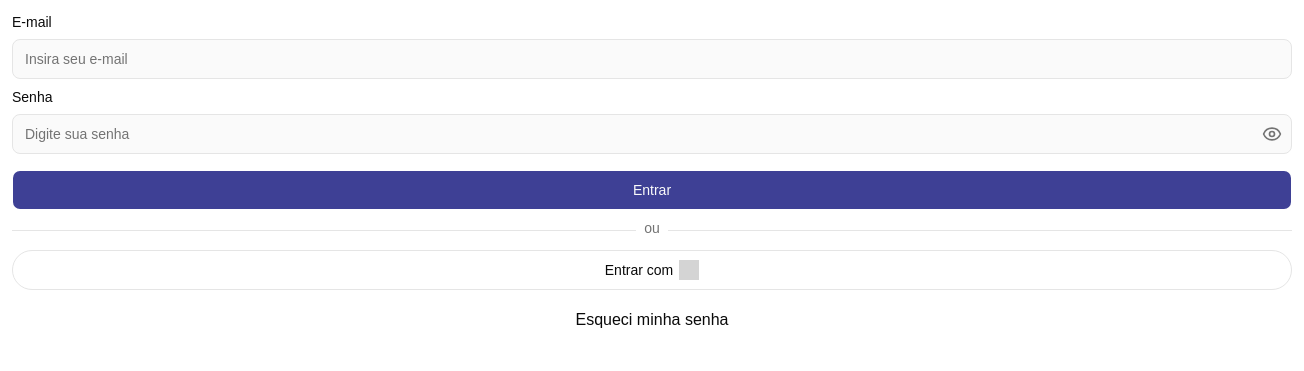
Test: SignInForm › shows a validation message for invalid email
Type "invalid-email" into the field labelled "E-mail" at {"x": 652, "y": 59}, box [12, 39, 1292, 79]
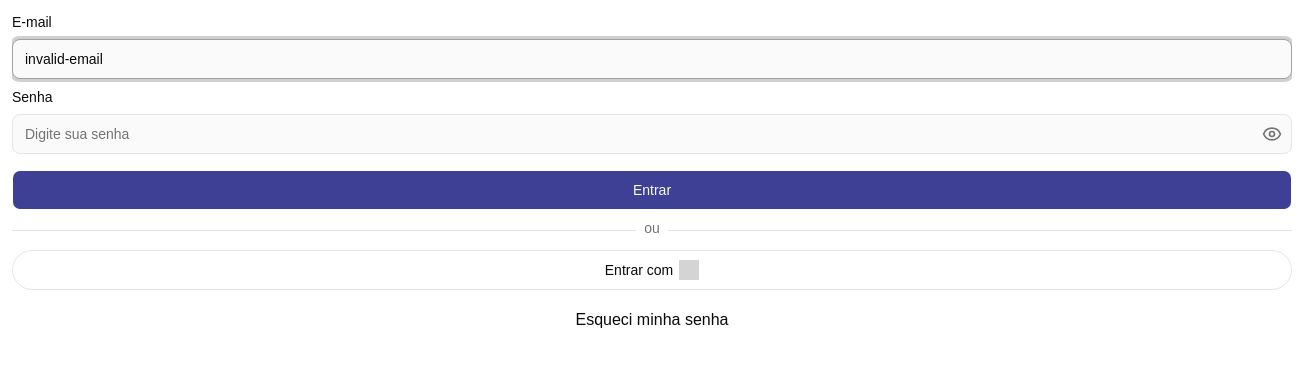
Type "secret" into the password field labelled "Senha" at {"x": 652, "y": 134}, box [12, 114, 1292, 154]
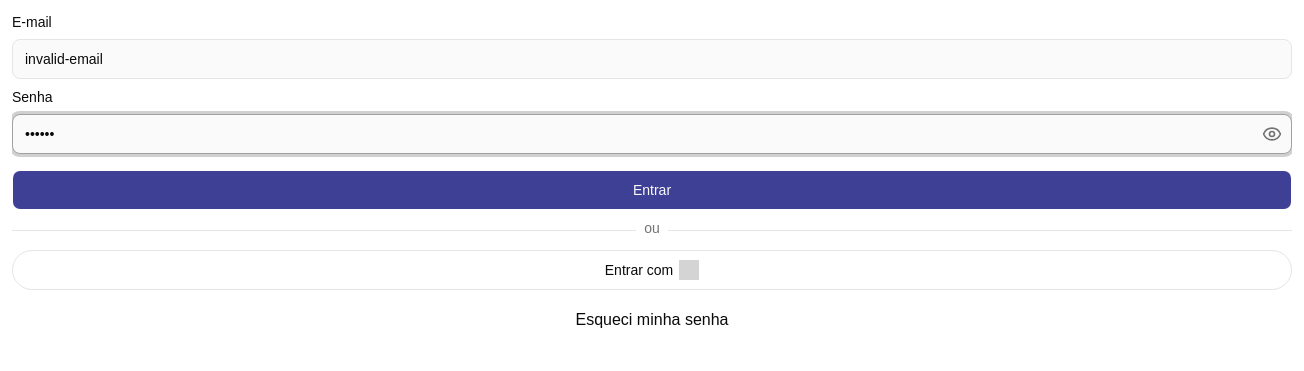
Click the button "Entrar" at {"x": 652, "y": 190}, box [12, 170, 1292, 210]
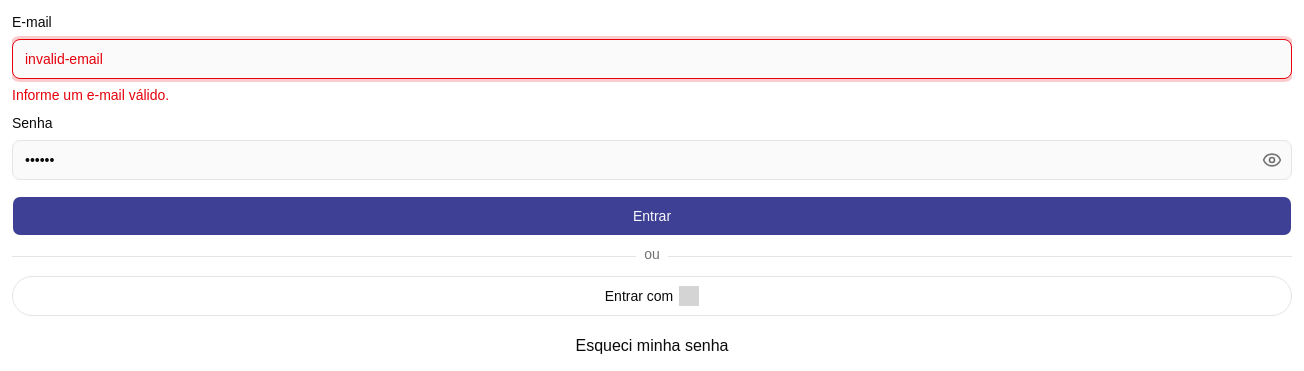
Now the text "Informe um e-mail válido." is shown, box [12, 87, 169, 103]
